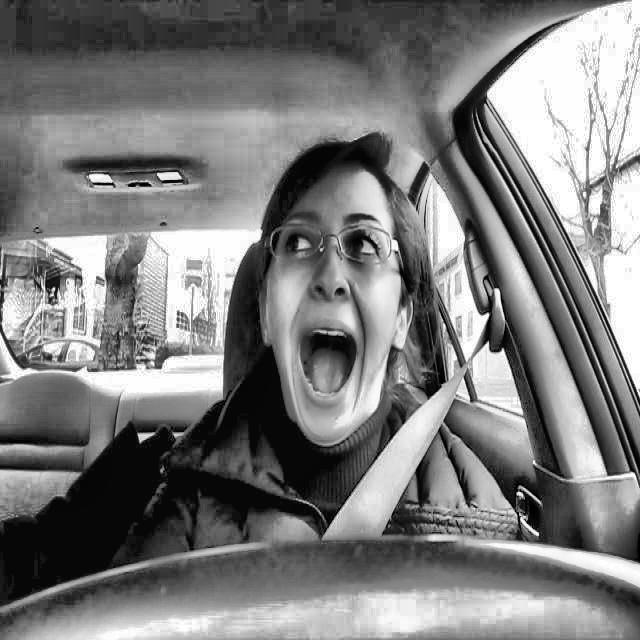open_eyes: (337, 227, 394, 271), (266, 225, 324, 261)
open_mouth: (281, 314, 372, 415)
